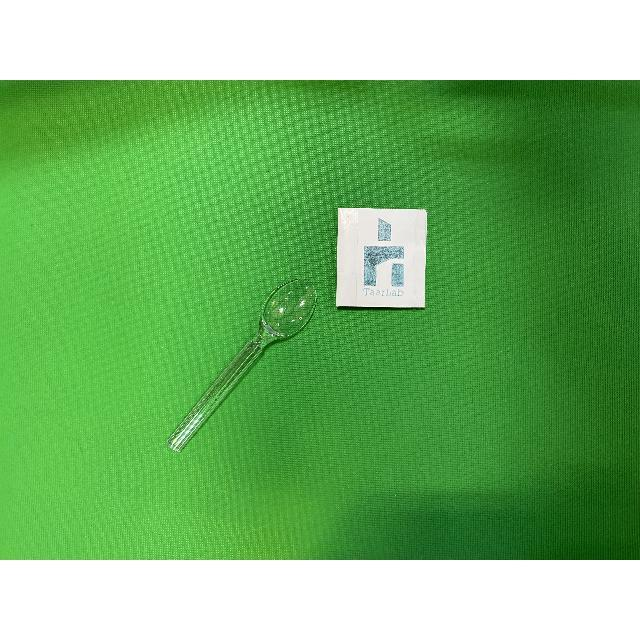Plastico descartable: (168, 287, 312, 453)
